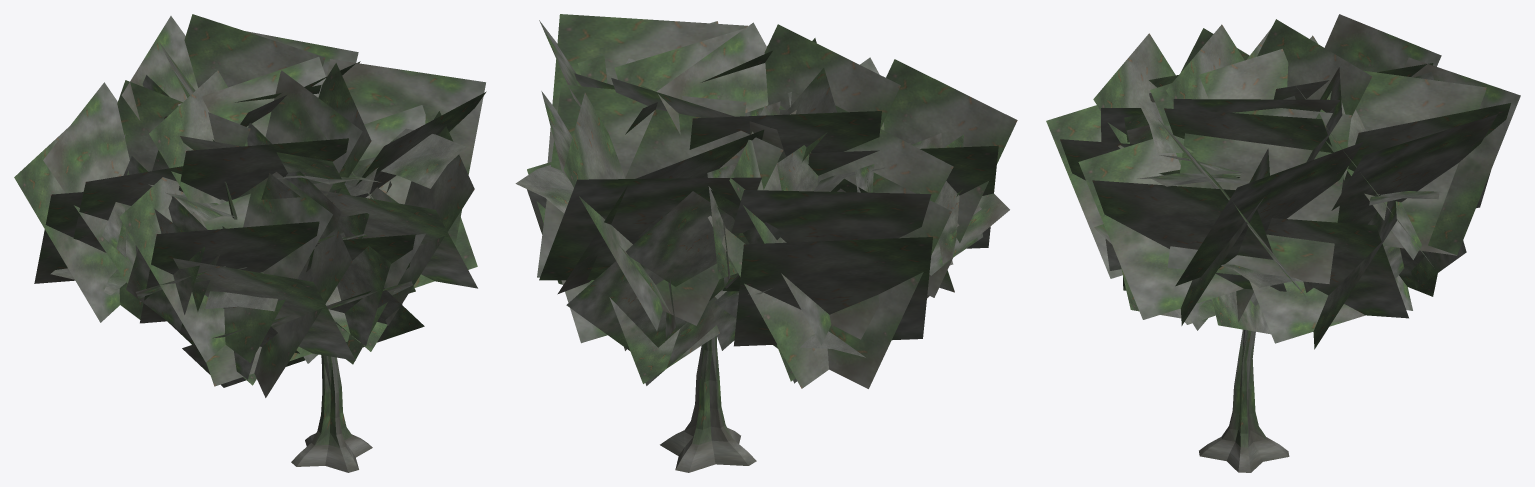
The model's file is oakA.dae.
The picture shows the model from 3 angles, left to right: view 1: azimuth 30°, elevation 25°; view 2: azimuth 150°, elevation 25°; view 3: azimuth 270°, elevation 25°; orthographic projection. The views are drawn at different scales.
Parts seen in each view (by area): view 1: oak_tree; view 2: oak_tree; view 3: oak_tree.
Part boxes in pixels (x1,y1,x2,y2): oak_tree: (14,14,486,472); oak_tree: (515,14,1017,472); oak_tree: (1046,14,1520,472).
Bounding box in the file's own units: 75.83 × 76 × 62.87.
